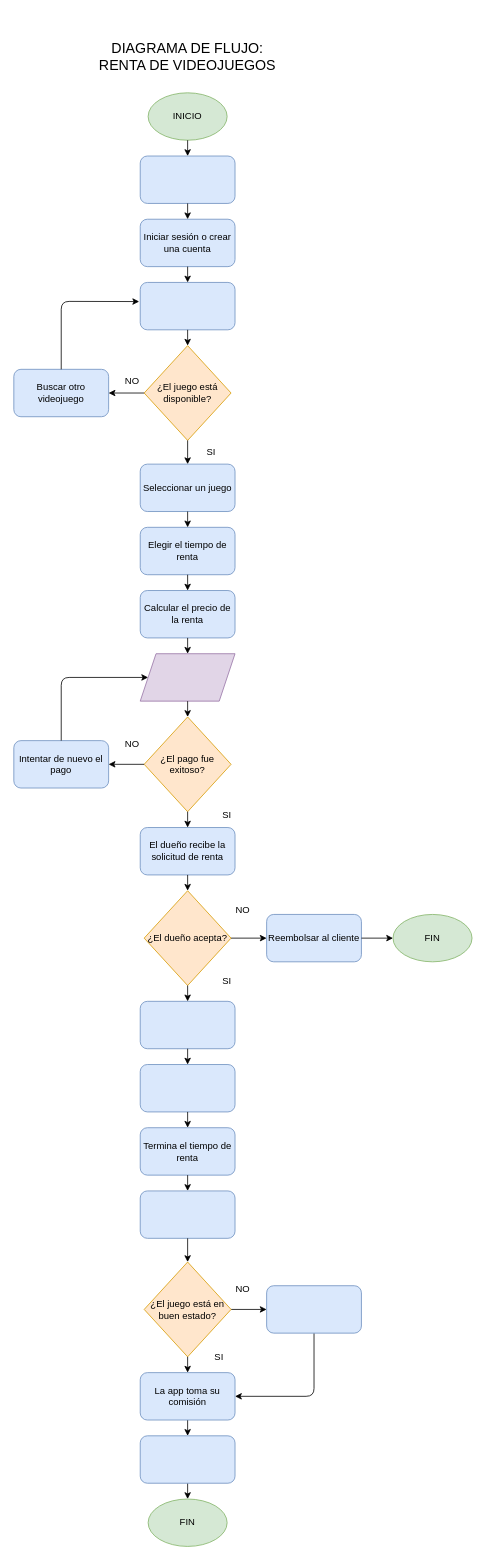
Some shapes in this 486 by 1560 pixel diagram are drawn without their labels. The centre of each missing label's shape, as x and y in pixels:
Abrir la aplicación: the point at 187,179
Buscar un videojuego: the point at 187,306
Cobrar una tarifa por daño: the point at 313,1309
El cliente usa el juego: the point at 187,1088
El dueño recibe el pago: the point at 187,1459
Entregar el videojuego fisico: the point at 187,1025
Realizar el pago: the point at 187,677
Regresar el juego: the point at 187,1214
